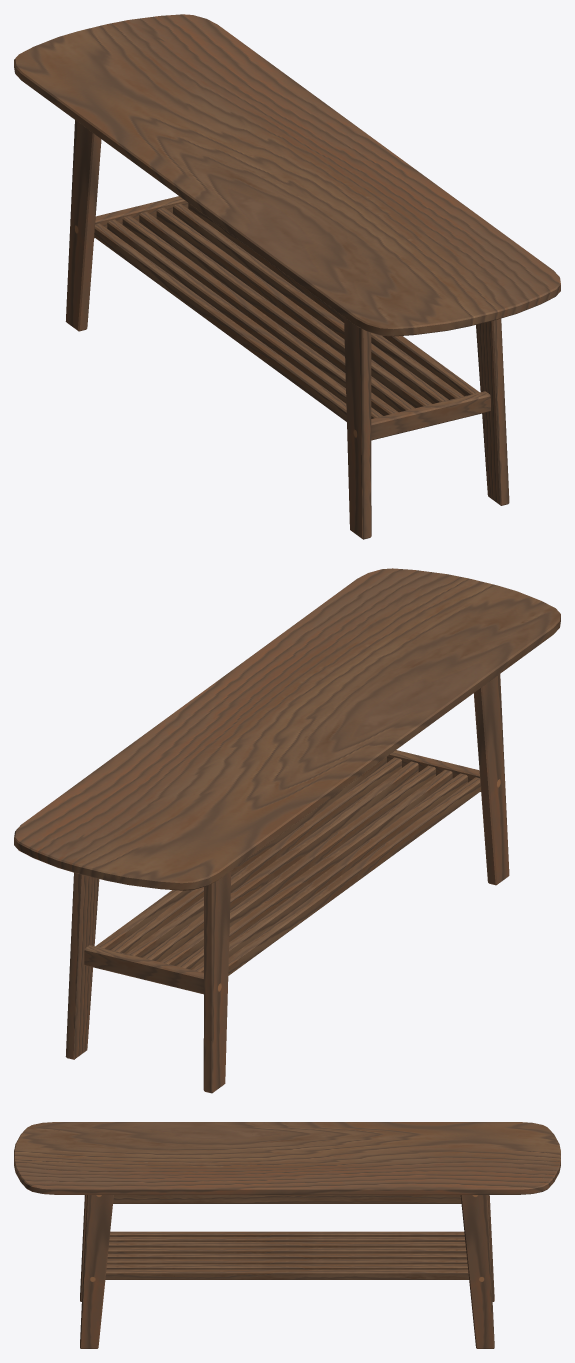
File: Table3.obj
The picture shows the model from 3 angles, top to bottom: view 1: azimuth 30°, elevation 25°; view 2: azimuth 150°, elevation 25°; view 3: azimuth 270°, elevation 25°; orthographic projection. The views are drawn at different scales.
Parts seen in each view (by area): view 1: Cube.034; view 2: Cube.034; view 3: Cube.034.
Boxes of the visible parts, left/top/right/bottom form: Cube.034: left=14, top=14, right=560, bottom=539; Cube.034: left=14, top=568, right=560, bottom=1093; Cube.034: left=14, top=1122, right=560, bottom=1348.
Size of the model in its own units: 0.5237 by 0.6139 by 1.8.
